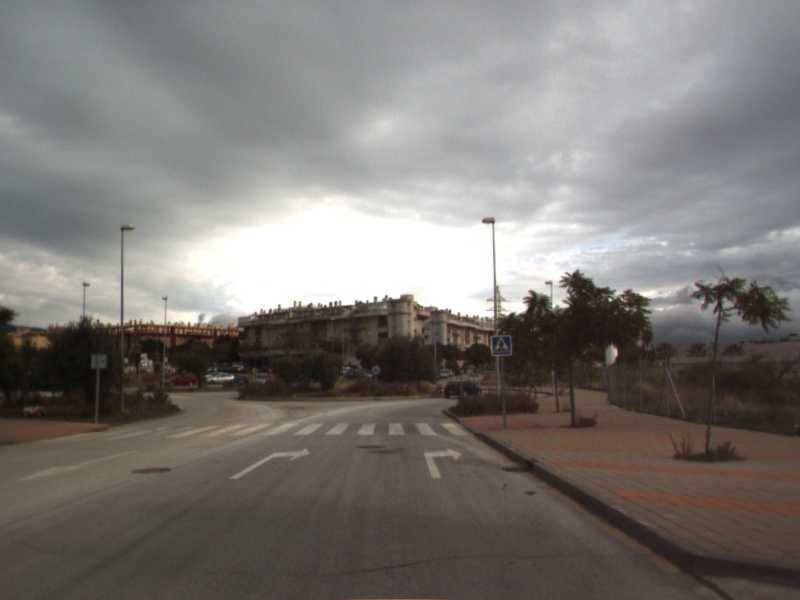RIGHT: (228, 446, 313, 481), (422, 446, 464, 480)
